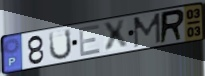8: (26, 35, 45, 66)
E: (78, 23, 102, 58)
M: (133, 11, 163, 50)
R: (158, 8, 187, 46)
U: (48, 28, 74, 62)
X: (102, 18, 130, 53)
